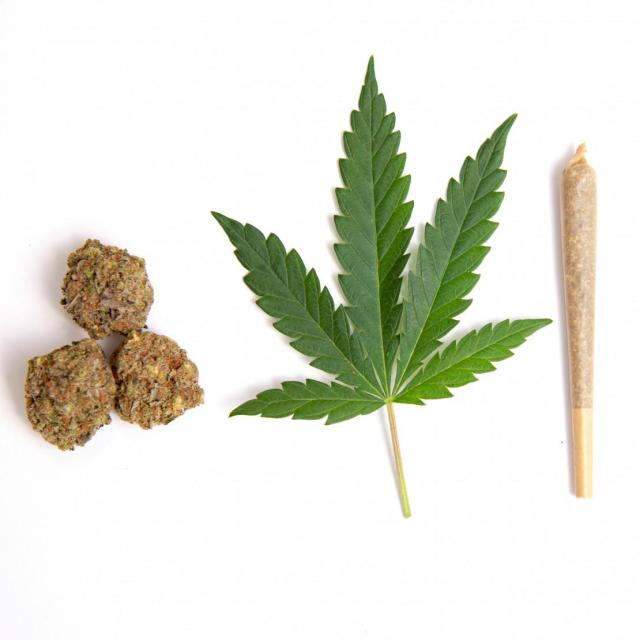cannabis: (210, 55, 554, 521)
